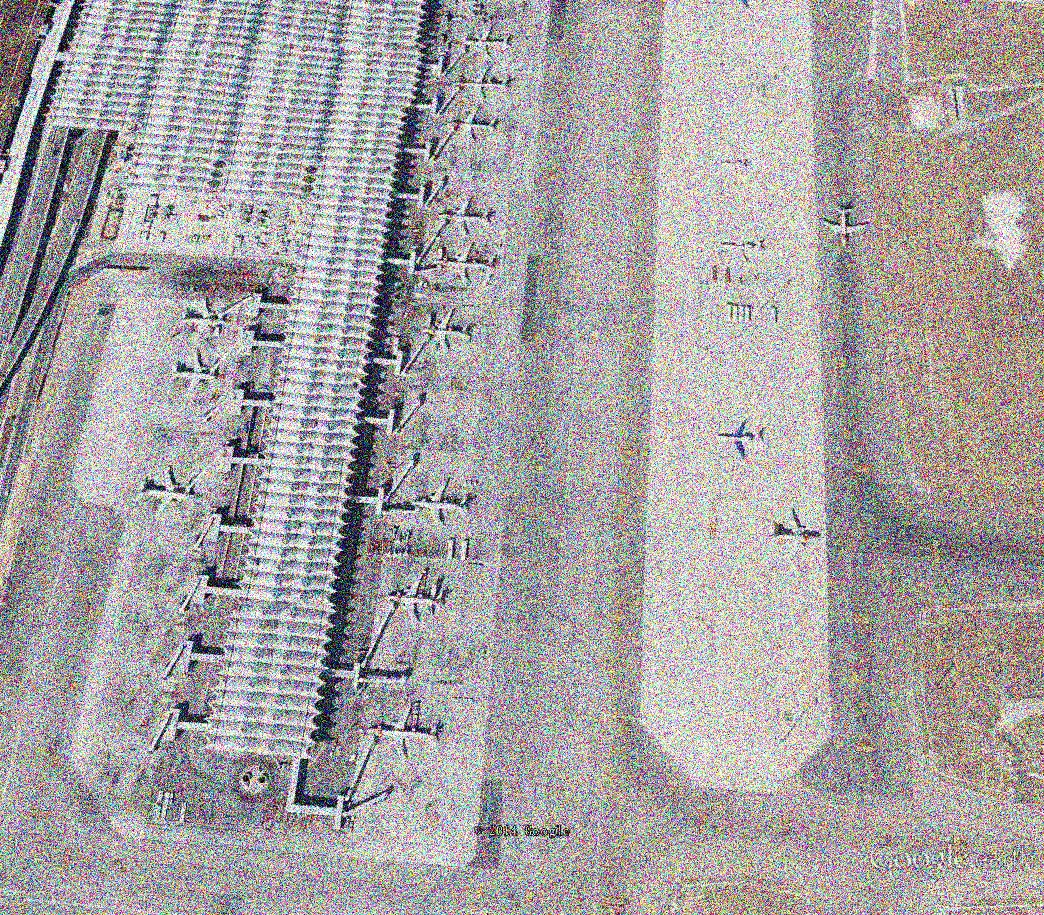aircraft: (359, 700, 445, 768), (135, 463, 204, 521), (384, 568, 447, 630), (406, 478, 470, 536), (432, 241, 497, 291), (418, 306, 475, 361), (766, 509, 823, 563), (167, 347, 222, 401), (435, 194, 493, 244), (173, 298, 229, 347), (449, 65, 515, 105), (714, 418, 765, 467), (820, 204, 871, 251), (442, 104, 500, 145), (460, 24, 515, 64), (721, 228, 768, 266), (718, 152, 751, 179)
